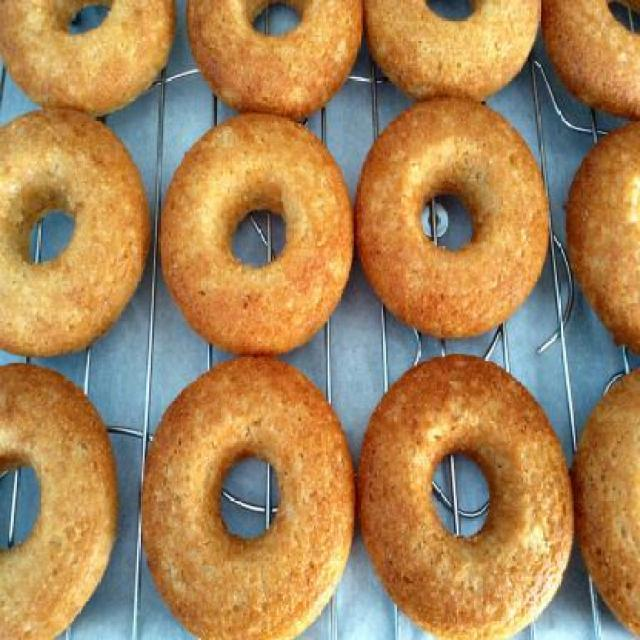Bagel: (0, 0, 638, 638), (355, 353, 577, 639)
